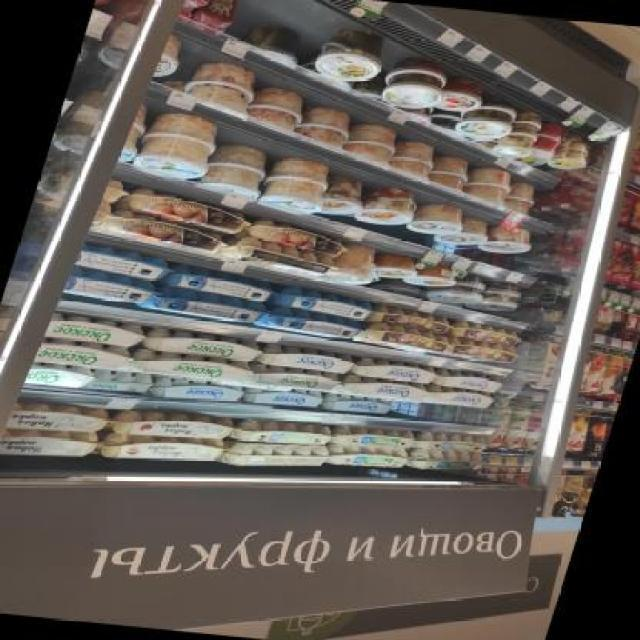Egg: (305, 26, 398, 84), (134, 286, 267, 324), (100, 430, 226, 470), (110, 407, 236, 444), (126, 349, 257, 383), (139, 327, 266, 362), (0, 424, 104, 465), (71, 244, 178, 282), (158, 269, 280, 302), (260, 284, 378, 318), (182, 59, 264, 106), (255, 305, 364, 340), (6, 401, 114, 436), (43, 313, 149, 348), (31, 337, 136, 371), (134, 136, 215, 180), (230, 417, 334, 451), (61, 272, 162, 306), (256, 343, 359, 376), (351, 186, 424, 229), (355, 324, 454, 355), (254, 177, 330, 216), (373, 73, 449, 112), (446, 105, 522, 144), (151, 377, 248, 406), (333, 375, 429, 404), (242, 364, 341, 392), (363, 305, 454, 335), (351, 357, 444, 386), (244, 86, 308, 128), (295, 105, 356, 148), (194, 164, 266, 200), (324, 442, 410, 471), (343, 122, 400, 164), (444, 337, 526, 366), (407, 447, 488, 476), (323, 243, 380, 284), (331, 424, 417, 451), (311, 175, 367, 216), (412, 430, 493, 456), (241, 385, 324, 410), (265, 155, 335, 184), (204, 143, 274, 172), (85, 368, 158, 395), (448, 321, 526, 346), (462, 168, 516, 204), (426, 155, 480, 191), (388, 141, 442, 177), (422, 385, 496, 411), (435, 78, 488, 114), (430, 369, 506, 394), (410, 204, 466, 236), (319, 393, 394, 416), (480, 227, 536, 256), (438, 218, 494, 247), (24, 363, 86, 389), (499, 181, 544, 216), (368, 255, 421, 281), (426, 283, 483, 306), (409, 265, 460, 289), (471, 292, 522, 314)
